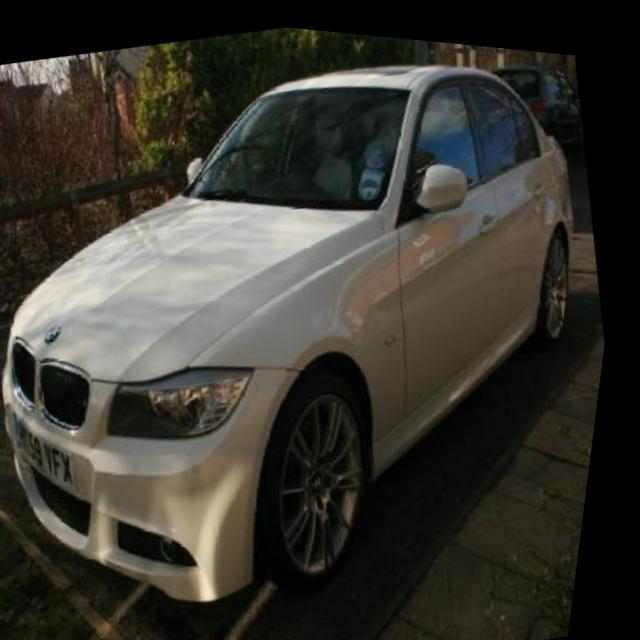license_plate: (12, 398, 98, 503)
